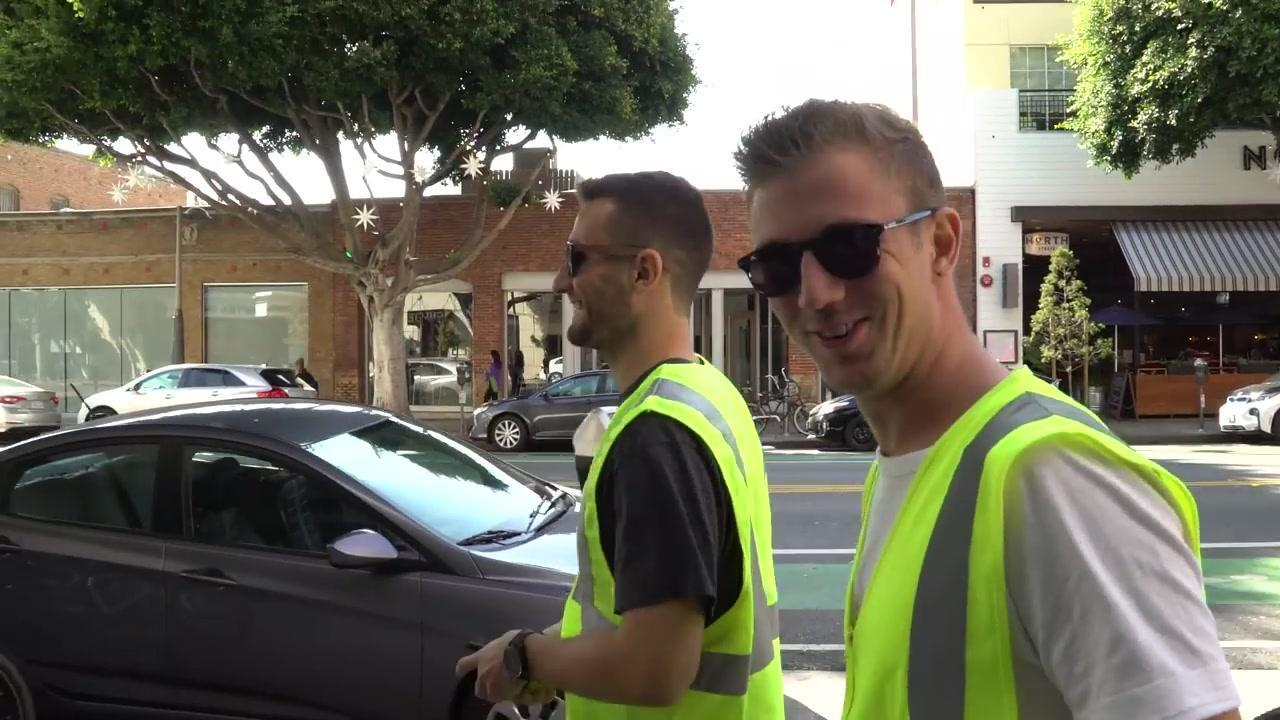vest: (840, 364, 1207, 719), (560, 353, 786, 719)
